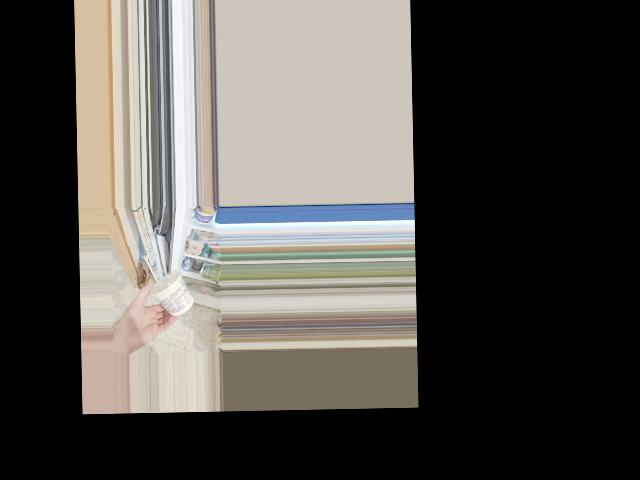cotage: (145, 272, 189, 318)
